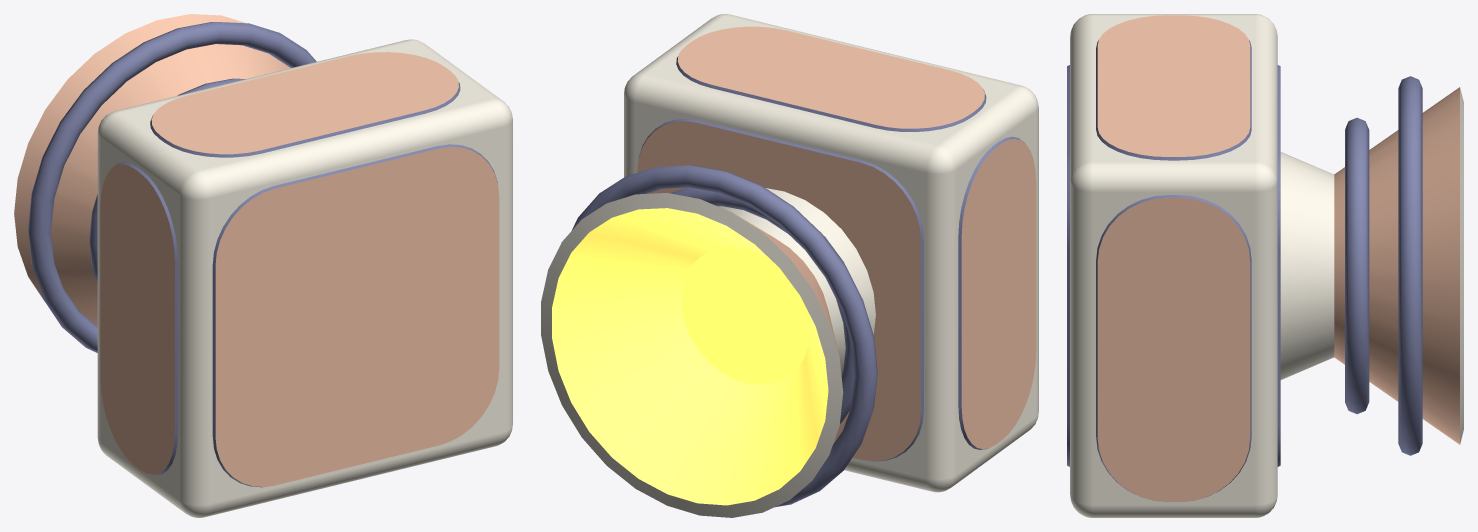
The model's file is R4X_Booster.fbx.
The picture shows the model from 3 angles, left to right: view 1: azimuth 30°, elevation 25°; view 2: azimuth 150°, elevation 25°; view 3: azimuth 270°, elevation 25°; orthographic projection. The views are drawn at different scales.
Parts seen in each view (by area): view 1: R4X_Booster_Body; view 2: R4X_Booster_Body; view 3: R4X_Booster_Body.
Boxes of the visible parts, x1,y1,x2,y2 form: R4X_Booster_Body: (14, 14, 512, 517); R4X_Booster_Body: (541, 14, 1038, 517); R4X_Booster_Body: (1067, 14, 1463, 517).
Bounding box in the file's own units: 0.52 × 0.52 × 0.52.
